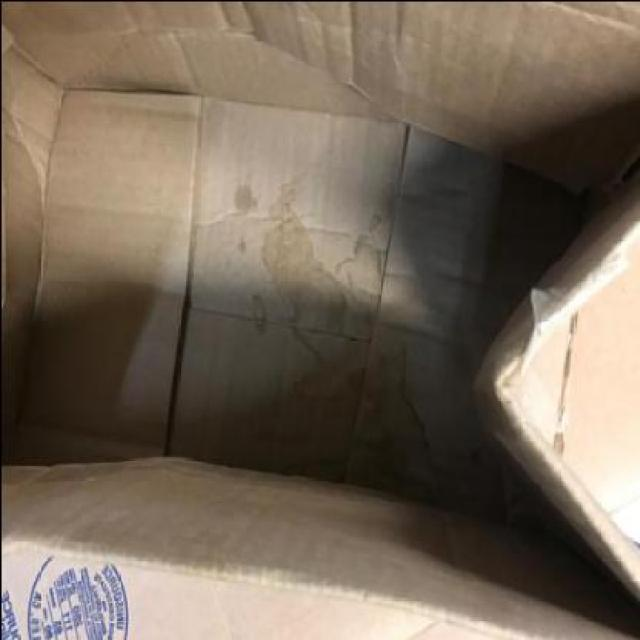CARDBOARD: (0, 1, 638, 640), (1, 2, 638, 209), (1, 456, 577, 638), (160, 108, 409, 487), (478, 166, 638, 639), (12, 83, 206, 471)
